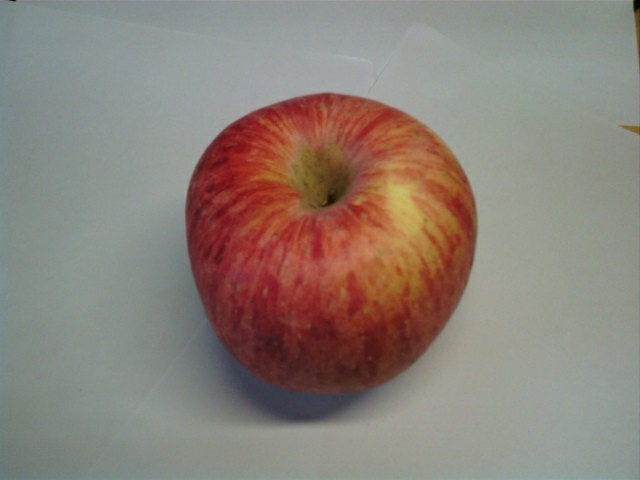normal_apple: (185, 91, 478, 402)
